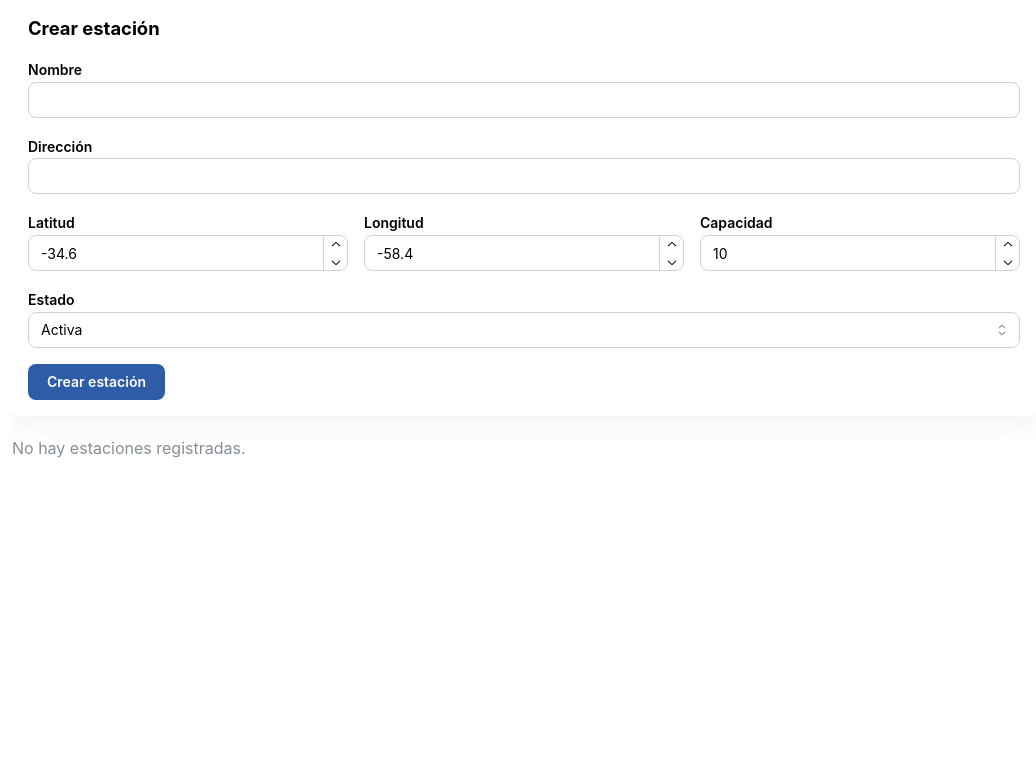
Test case: StationManagement › crea una estación solo luego de la respuesta exitosa
This screenshot has width=1036, height=768.
Expected: the text "No hay estaciones registradas." is shown, 12,438 -> 246,458
In the field labelled "Nombre": (524, 100) 28,82 -> 1020,118, type "Centro"
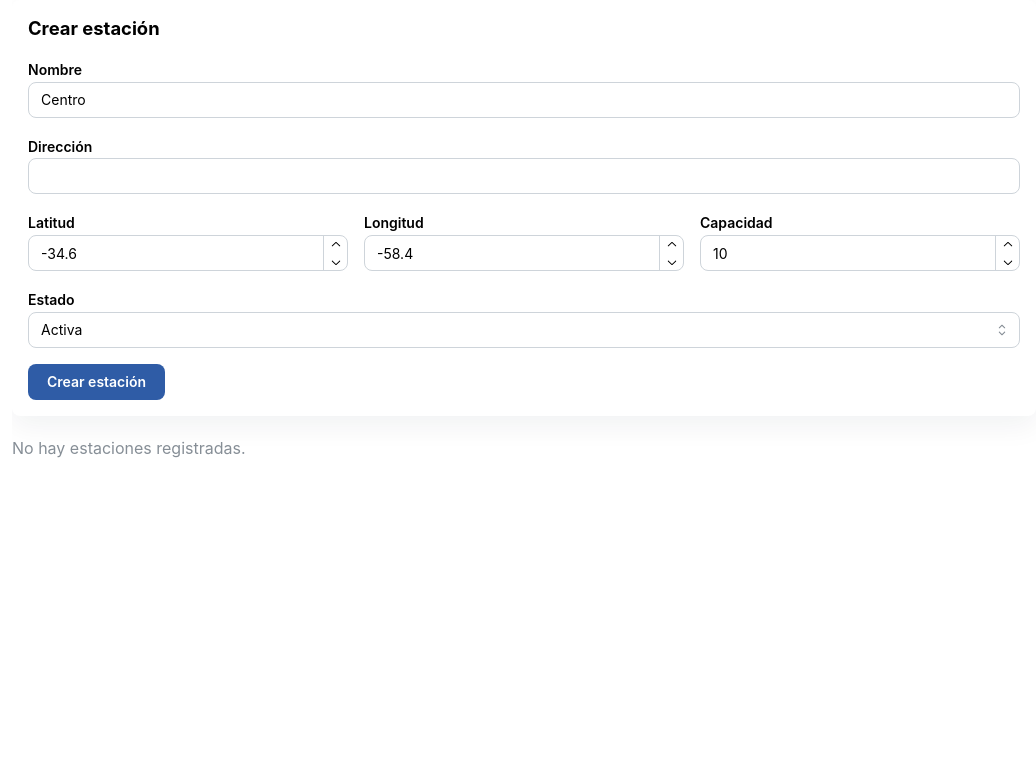
Click the button "Crear estación": (96, 382) 28,364 -> 165,400
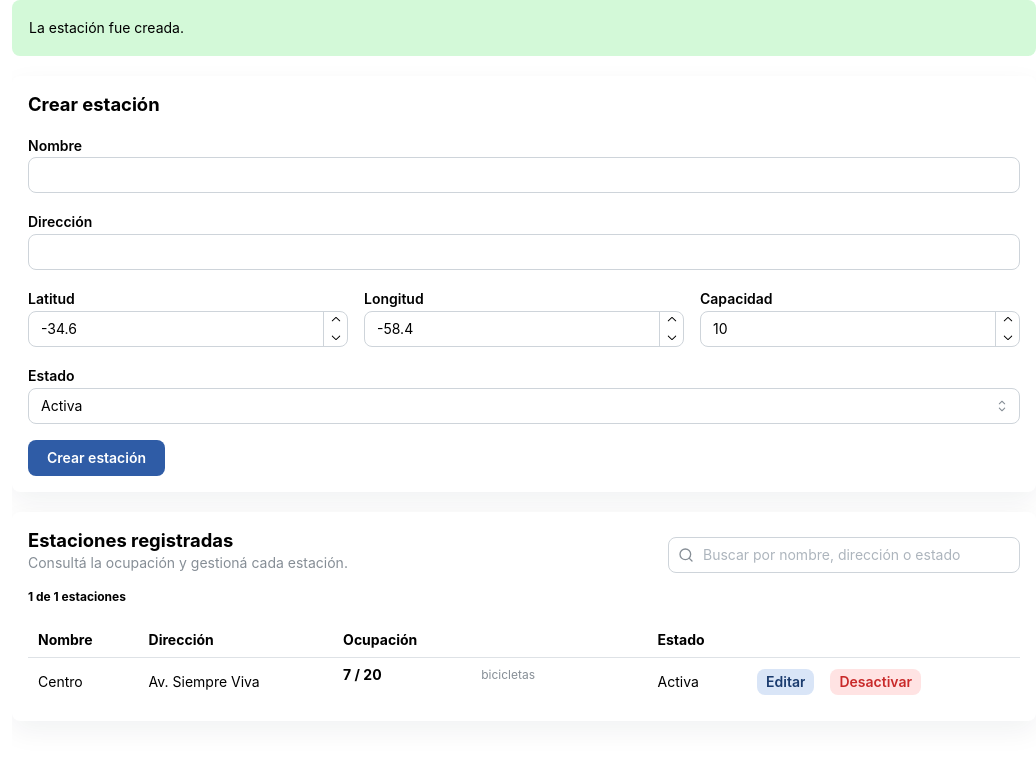
Result: the text "La estación fue creada." is shown at 29,19 -> 184,36
